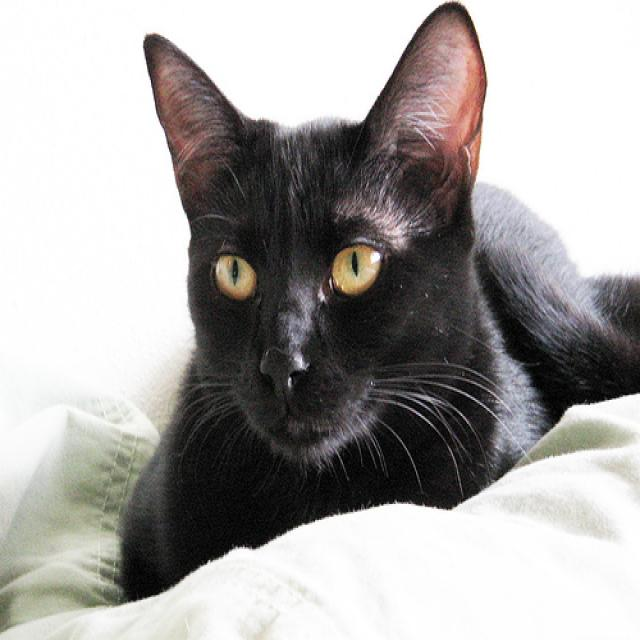left eye: (326, 238, 386, 298)
